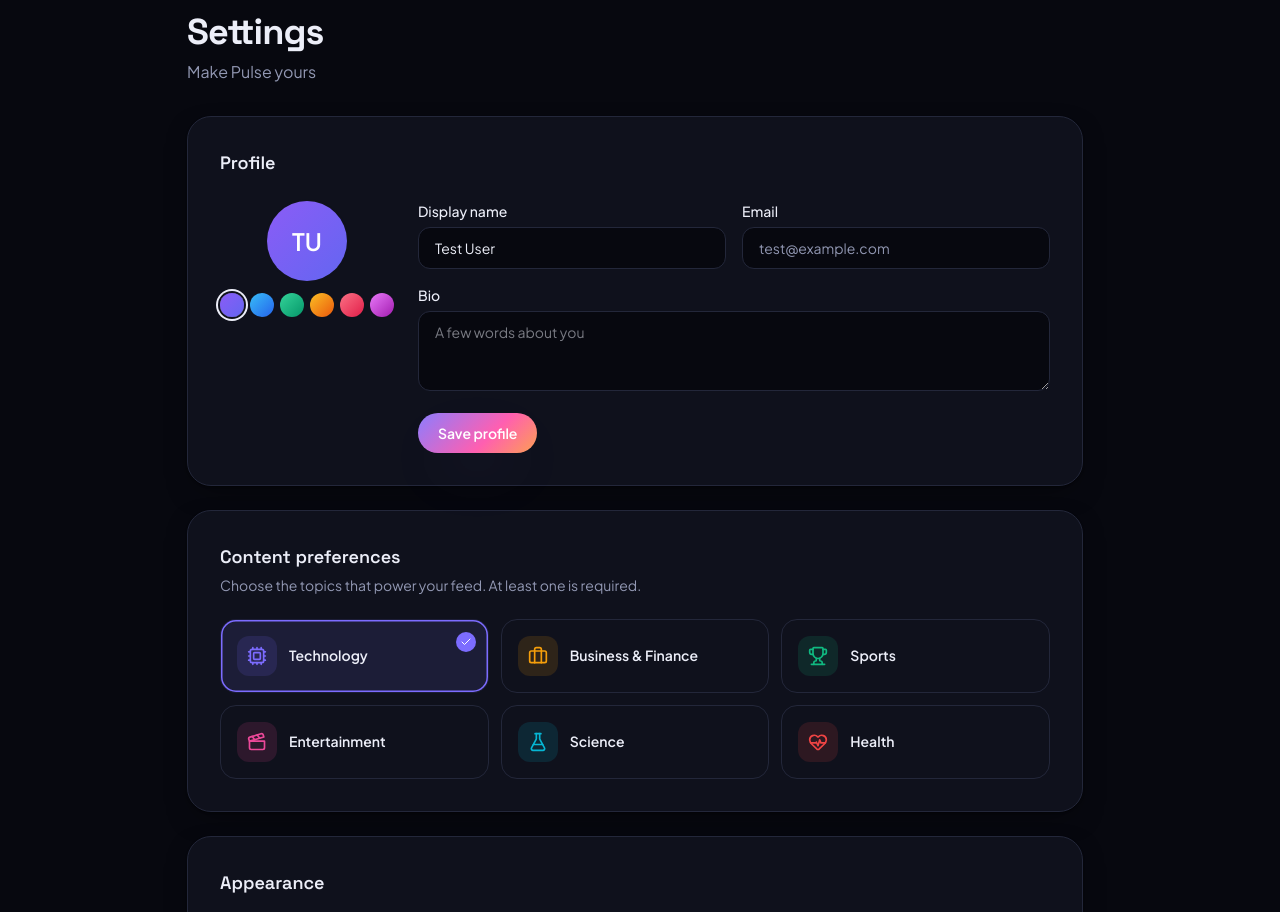
SettingsView › saves profile changes
Replace the text in the field labelled "Display name" with "New Name". click: point(572, 248)
box: [418,227,726,269]
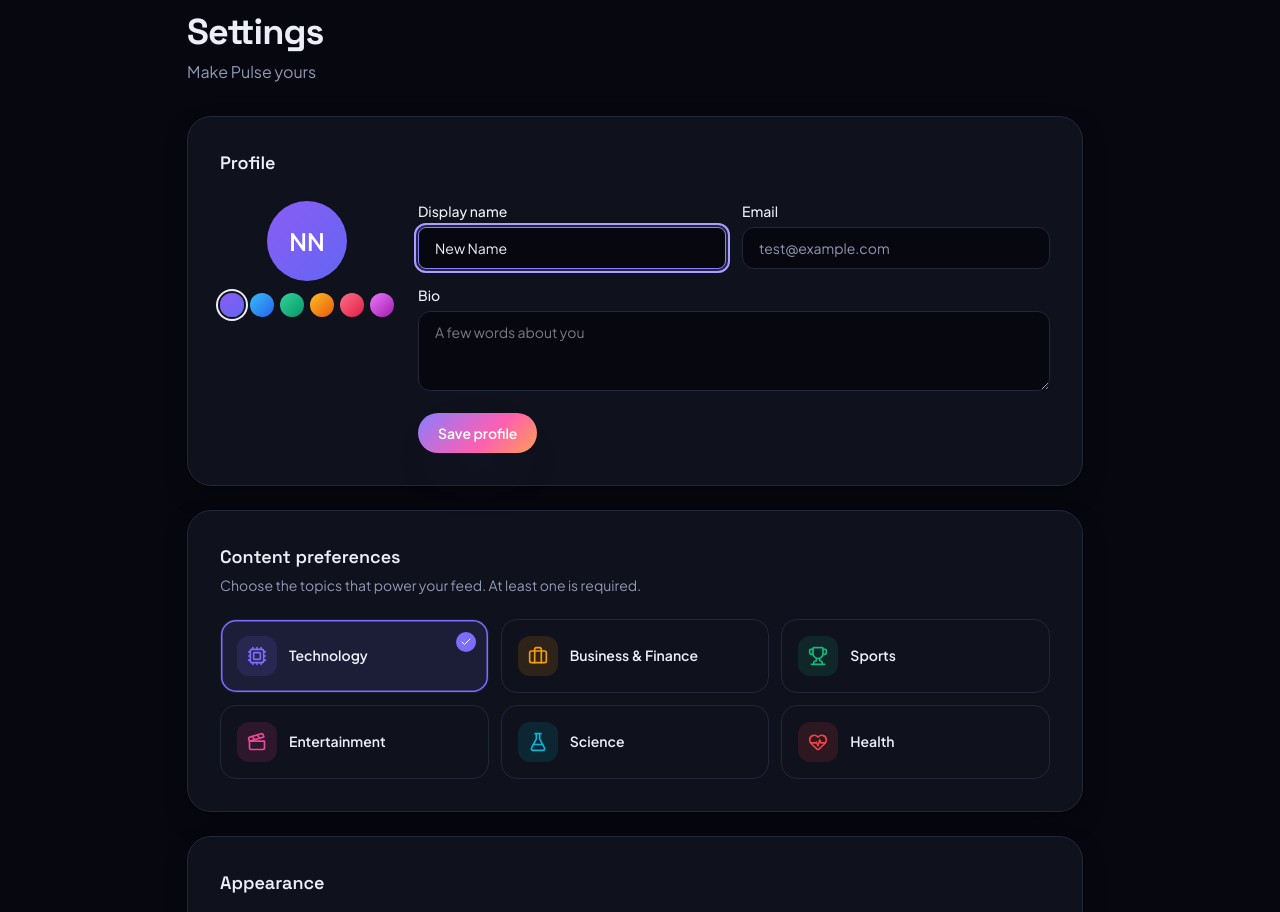
Click the button "Save profile". click: point(478, 433)
box: [418,413,537,453]
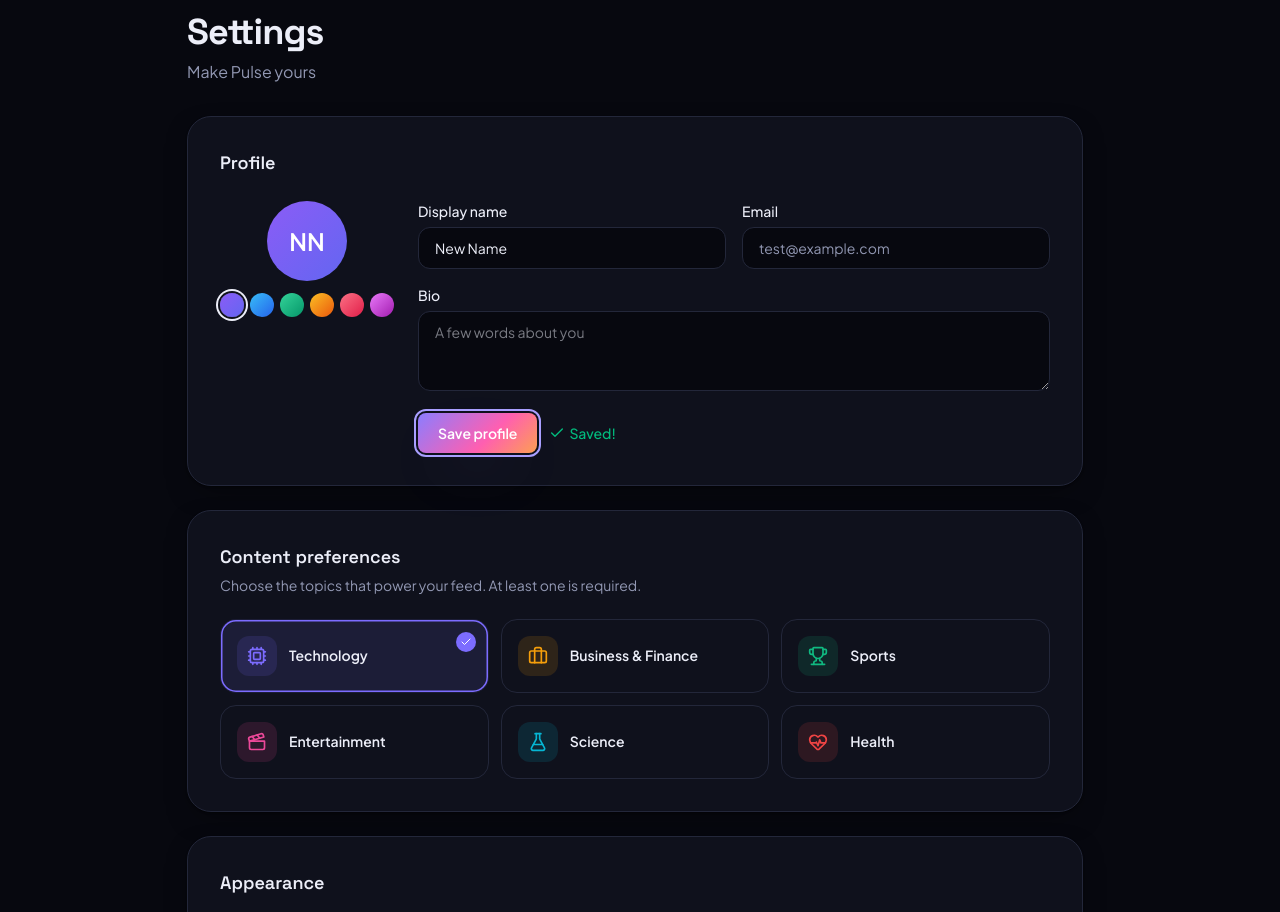
Check: the message shows "Saved", box [569,424,616,442]
